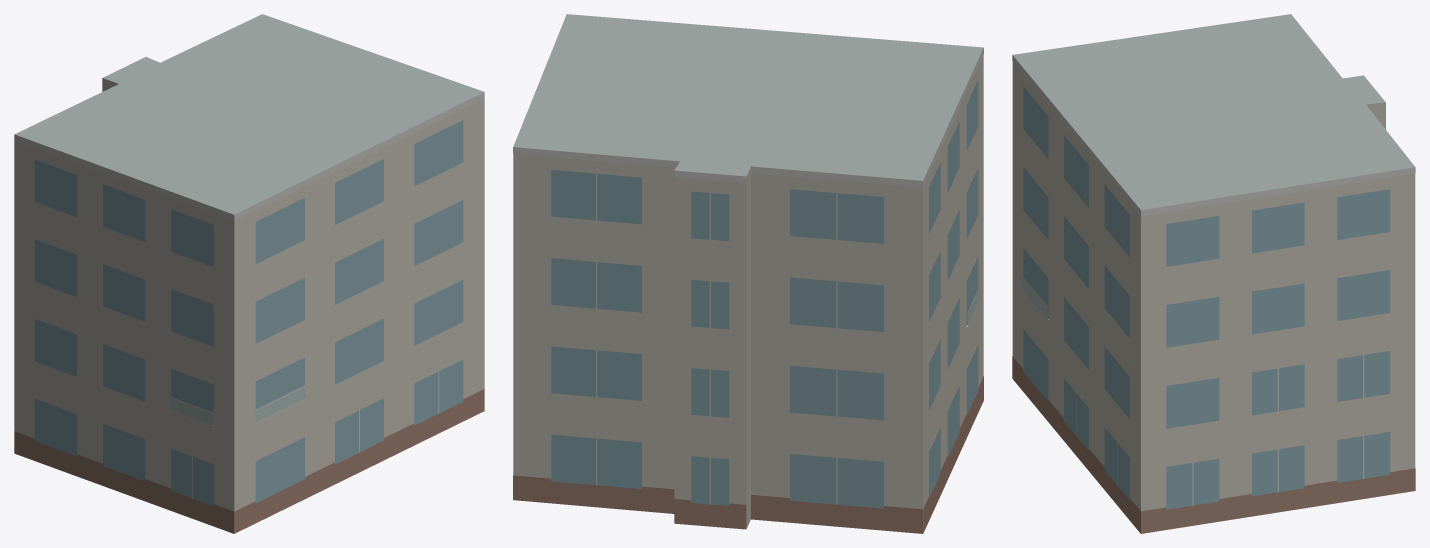
Rendered from survey-upis-32748275.glb.
The picture shows the model from 3 angles, left to right: view 1: azimuth 30°, elevation 25°; view 2: azimuth 150°, elevation 25°; view 3: azimuth 270°, elevation 25°; orthographic projection. The views are drawn at different scales.
Parts seen in each view (by area): view 1: survey-upis-32748275.tmp; view 2: survey-upis-32748275.tmp; view 3: survey-upis-32748275.tmp.
Boxes of the visible parts, box(x1,y1,x2,y2) form: survey-upis-32748275.tmp: box(14, 14, 484, 533); survey-upis-32748275.tmp: box(513, 14, 983, 533); survey-upis-32748275.tmp: box(1012, 14, 1415, 533).
Size of the model in its own units: 16.64 by 12.8 by 14.45.
